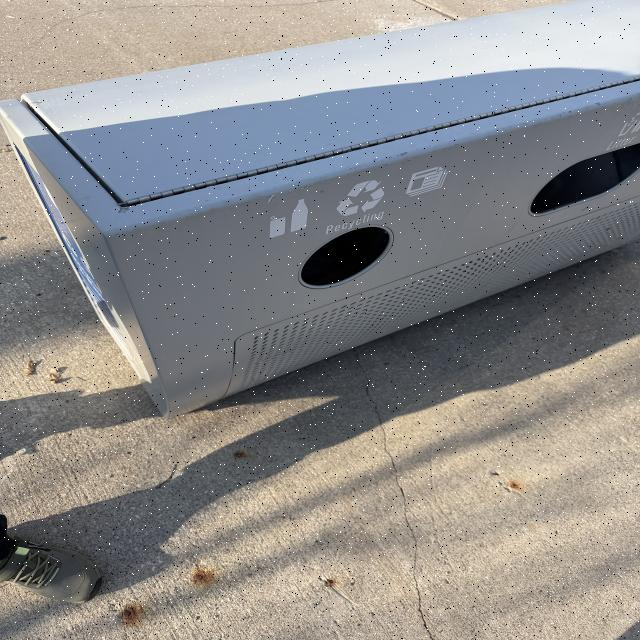Dustbin: (0, 1, 640, 419)
